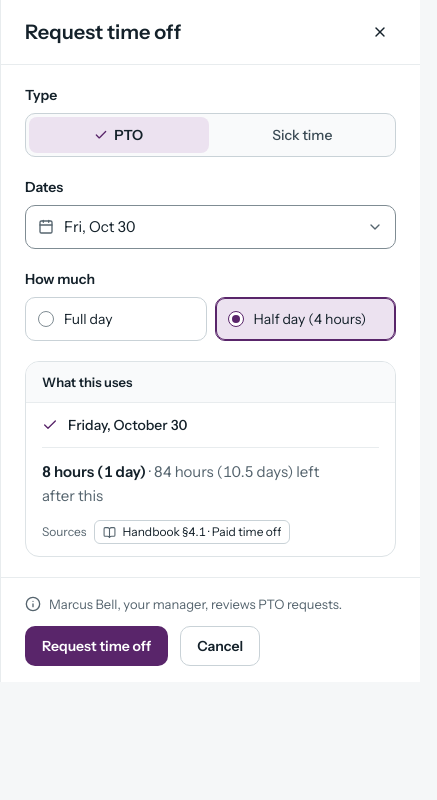
Scenario: RequestForm, what it reports matches what it shows › goes back to Full day when one day becomes a range
Click the button named "Dates" at (100, 226), box [25,205,396,249]
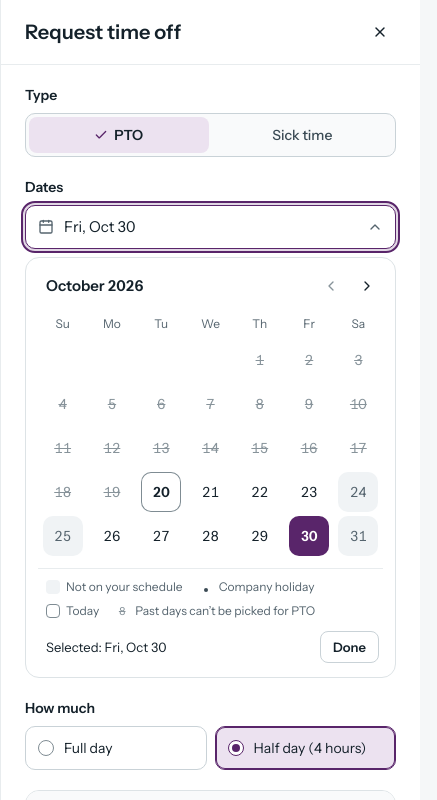
Click the button named "Thursday, October 29" at (260, 536), box [240,516,280,556]
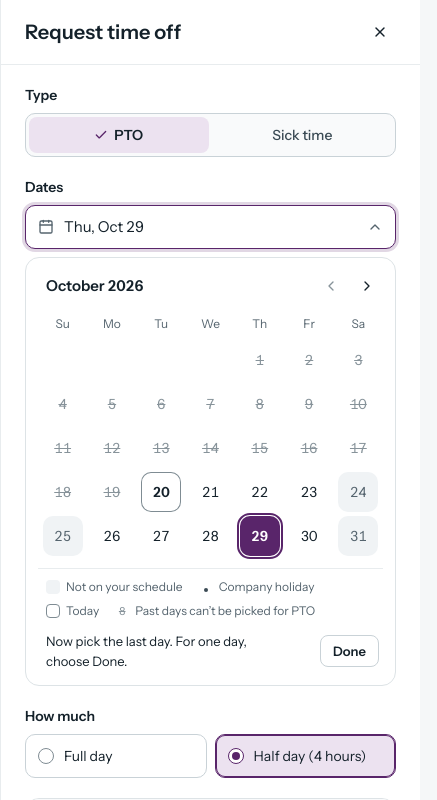
Click the button named "Friday, October 30" at (309, 536), box [289,516,329,556]
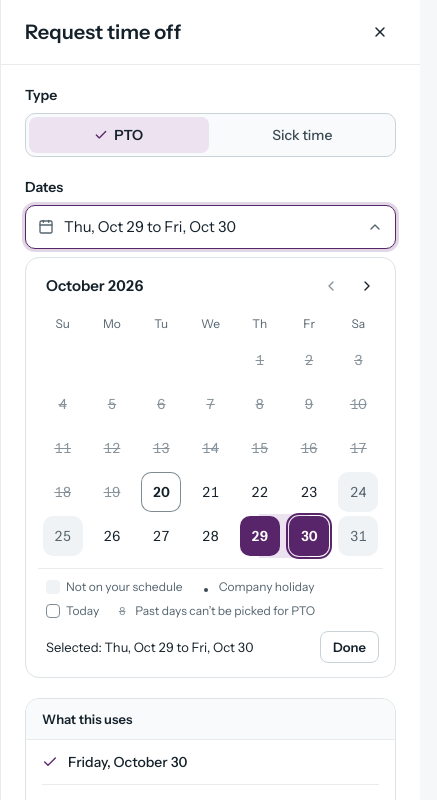
Expected: the text "How much" is gone
Note: A new single day brings the control back, with Full day chosen.
Click the button named "Wednesday, October 28" at (210, 536), box [190,516,230,556]
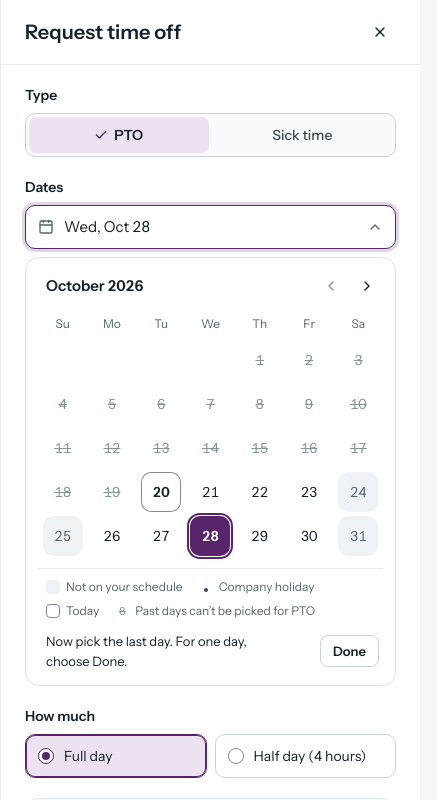
Expected: the radio button labelled "Full day" is checked, [25,734,206,778]
